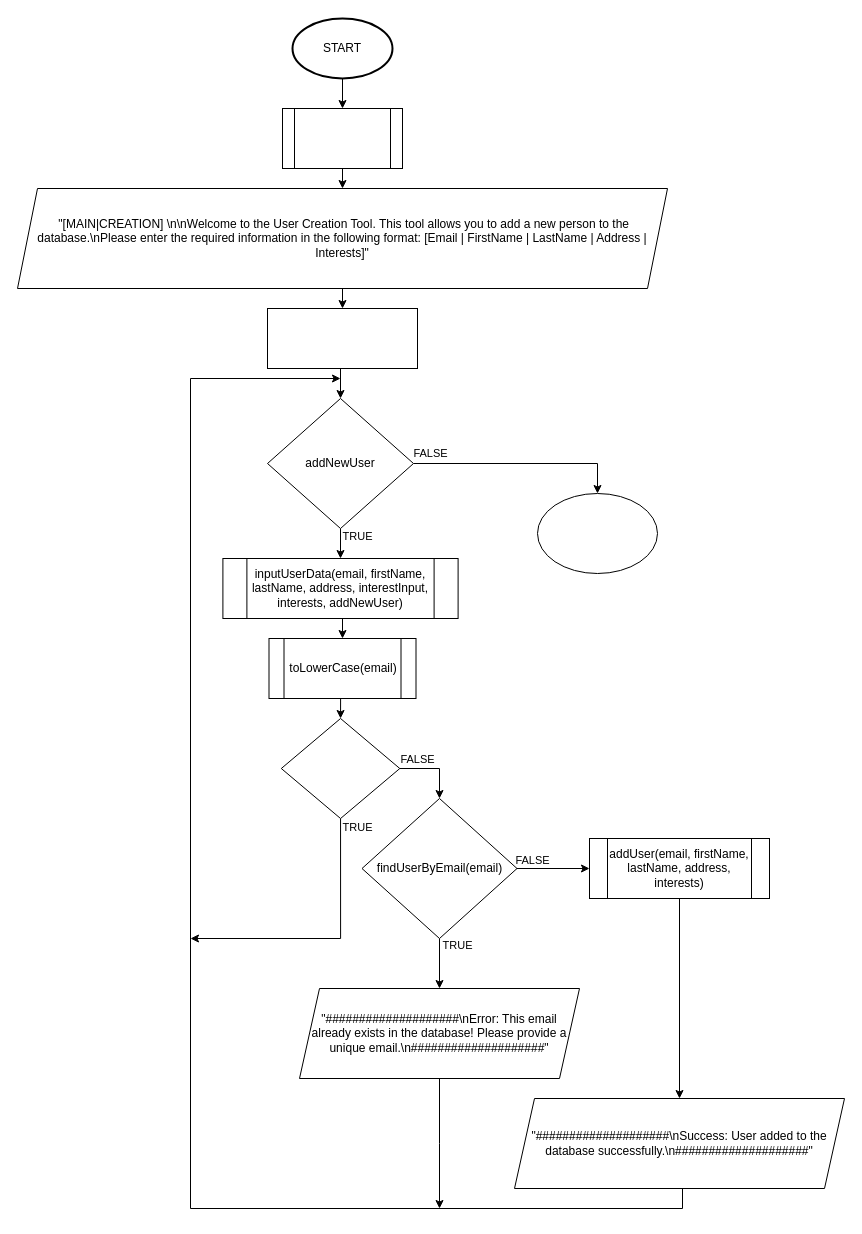
The diagram is 862 pixels wide and 1234 high, and some of its shapes have lost their labels. The centre of each missing label's shape, as x and y in pixels:
!addNewUser: (x=340, y=768)
bool addNewUser = true: (x=342, y=338)
END: (x=597, y=533)
system("CLS"): (x=342, y=138)
